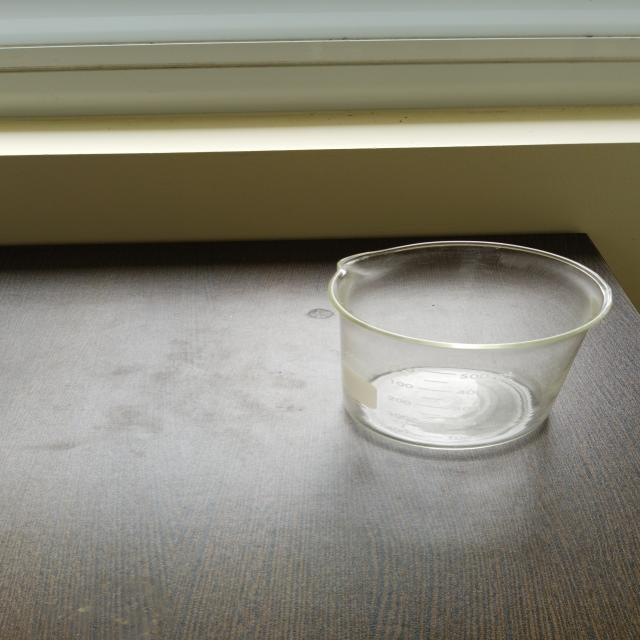beaker: (325, 238, 617, 455)
